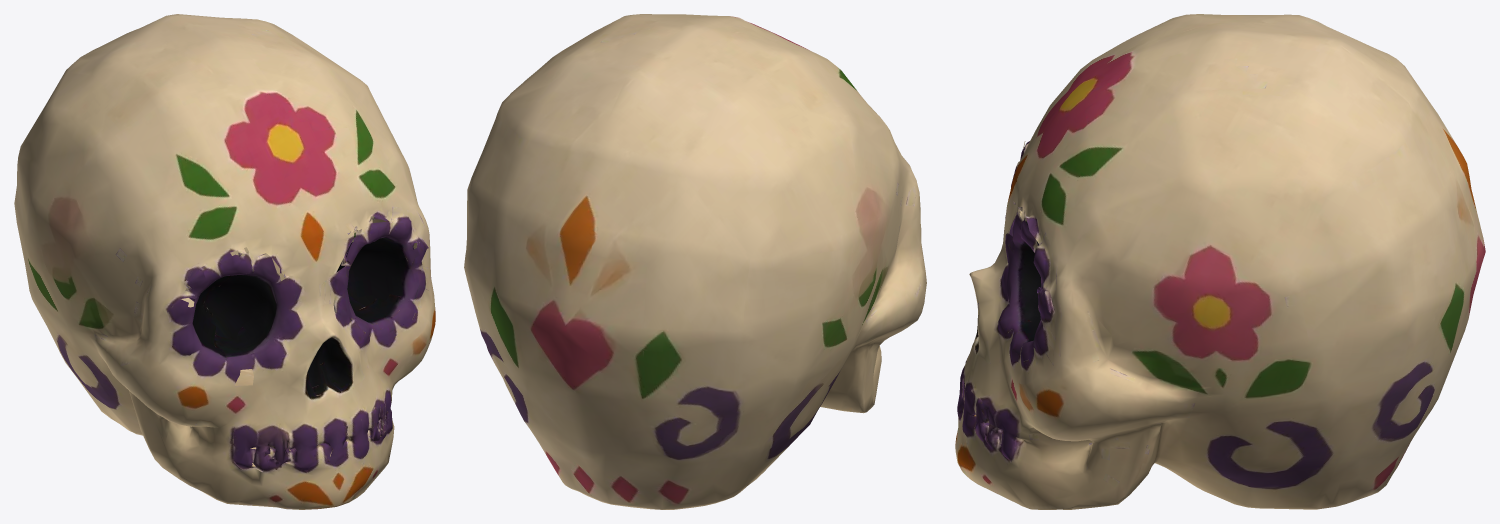
File: calavera-azucar.glb
3 renders of one model, left to right at view 1: azimuth 30°, elevation 25°; view 2: azimuth 150°, elevation 25°; view 3: azimuth 270°, elevation 25°, orthographic. The views are drawn at different scales.
Visible parts, largest first — view 1: Mesh_0; view 2: Mesh_0; view 3: Mesh_0.
Part boxes in pixels (x1,y1,x2,y2): Mesh_0: [14, 14, 435, 509]; Mesh_0: [464, 14, 926, 509]; Mesh_0: [955, 14, 1485, 509].
Bounding box in the file's own units: 1.55 × 1.72 × 1.9.
Materials: 1 (1 with a texture image).
